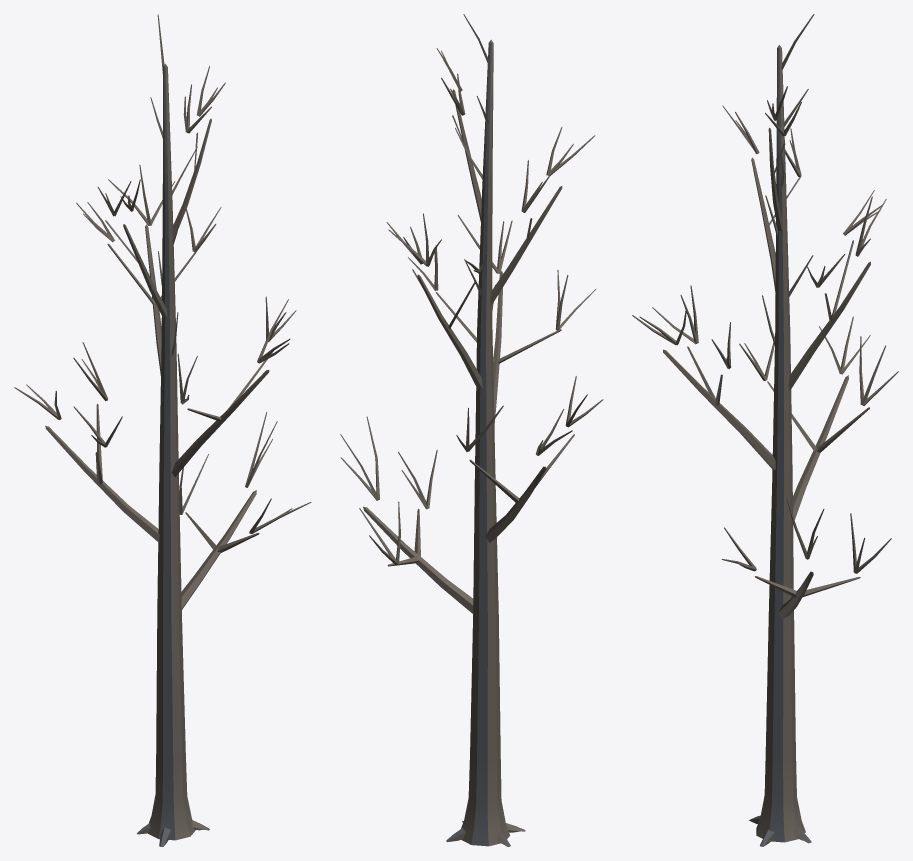
The model's file is SC_Nat_Ginkgo_Bare.gltf.
3 renders of one model, left to right at view 1: azimuth 30°, elevation 25°; view 2: azimuth 150°, elevation 25°; view 3: azimuth 270°, elevation 25°, orthographic. The views are drawn at different scales.
Visible parts, largest first — view 1: SC_Nat_Ginkgo_Bare; view 2: SC_Nat_Ginkgo_Bare; view 3: SC_Nat_Ginkgo_Bare.
Boxes of the visible parts, x1,y1,x2,y2 form: SC_Nat_Ginkgo_Bare: [14, 14, 311, 846]; SC_Nat_Ginkgo_Bare: [340, 14, 603, 846]; SC_Nat_Ginkgo_Bare: [632, 14, 898, 846].
Size of the model in its own units: 3.34 by 10.61 by 3.13.
Materials: 1 (1 with a texture image).
